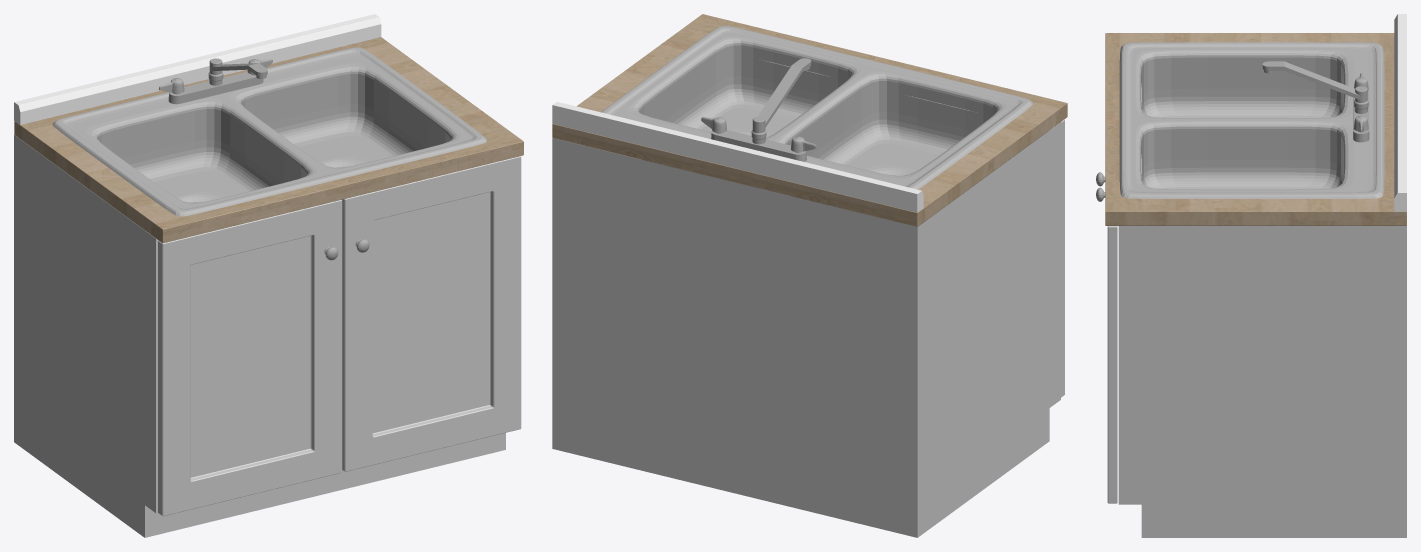
The model's file is kitchenSink.obj.
3 views of the same model, side by side, from view 1: azimuth 30°, elevation 25°; view 2: azimuth 150°, elevation 25°; view 3: azimuth 270°, elevation 25° (orthographic).
Visible parts, largest first — view 1: Door-and-Drawers-Right.002_Cube.038, Base-unit-Box-Right.002_Cube.036, Double_sink, Worktop-Right.002_Cube.037, Plane.001_Plane.017, Kitchen_faucet, Kitchen_spigot; view 2: Base-unit-Box-Right.002_Cube.036, Double_sink, Worktop-Right.002_Cube.037, Plane.001_Plane.017, Kitchen_spigot, Kitchen_faucet, Door-and-Drawers-Right.002_Cube.038; view 3: Base-unit-Box-Right.002_Cube.036, Double_sink, Worktop-Right.002_Cube.037, Door-and-Drawers-Right.002_Cube.038, Plane.001_Plane.017, Kitchen_spigot, Kitchen_faucet.
Part boxes in pixels (x1=…): Door-and-Drawers-Right.002_Cube.038: x1=158, y1=156, x2=521, y2=516; Base-unit-Box-Right.002_Cube.036: x1=14, y1=134, x2=505, y2=537; Double_sink: x1=52, y1=47, x2=486, y2=216; Worktop-Right.002_Cube.037: x1=14, y1=37, x2=523, y2=243; Plane.001_Plane.017: x1=14, y1=14, x2=381, y2=124; Kitchen_faucet: x1=168, y1=71, x2=263, y2=104; Kitchen_spigot: x1=208, y1=58, x2=267, y2=85; Base-unit-Box-Right.002_Cube.036: x1=552, y1=61, x2=1060, y2=537; Double_sink: x1=601, y1=25, x2=1032, y2=224; Worktop-Right.002_Cube.037: x1=552, y1=14, x2=1067, y2=226; Plane.001_Plane.017: x1=552, y1=101, x2=923, y2=212; Kitchen_spigot: x1=751, y1=58, x2=811, y2=144; Kitchen_faucet: x1=711, y1=130, x2=806, y2=161; Door-and-Drawers-Right.002_Cube.038: x1=1061, y1=119, x2=1064, y2=397; Base-unit-Box-Right.002_Cube.036: x1=1118, y1=83, x2=1406, y2=537; Double_sink: x1=1119, y1=42, x2=1384, y2=198; Worktop-Right.002_Cube.037: x1=1105, y1=33, x2=1406, y2=225; Door-and-Drawers-Right.002_Cube.038: x1=1107, y1=226, x2=1117, y2=503; Plane.001_Plane.017: x1=1394, y1=14, x2=1406, y2=211; Kitchen_spigot: x1=1262, y1=61, x2=1368, y2=113; Kitchen_faucet: x1=1353, y1=91, x2=1369, y2=142.
Bounding box in the file's own units: 97.59 × 97.63 × 71.69.
Materials: 7 (1 with a texture image).
